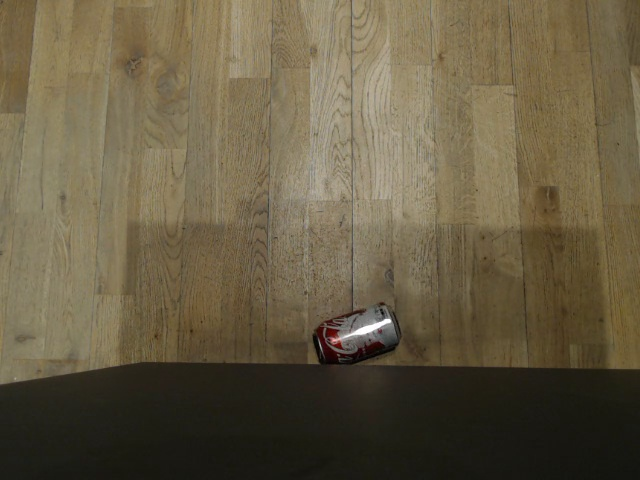cola: (311, 299, 400, 366)
